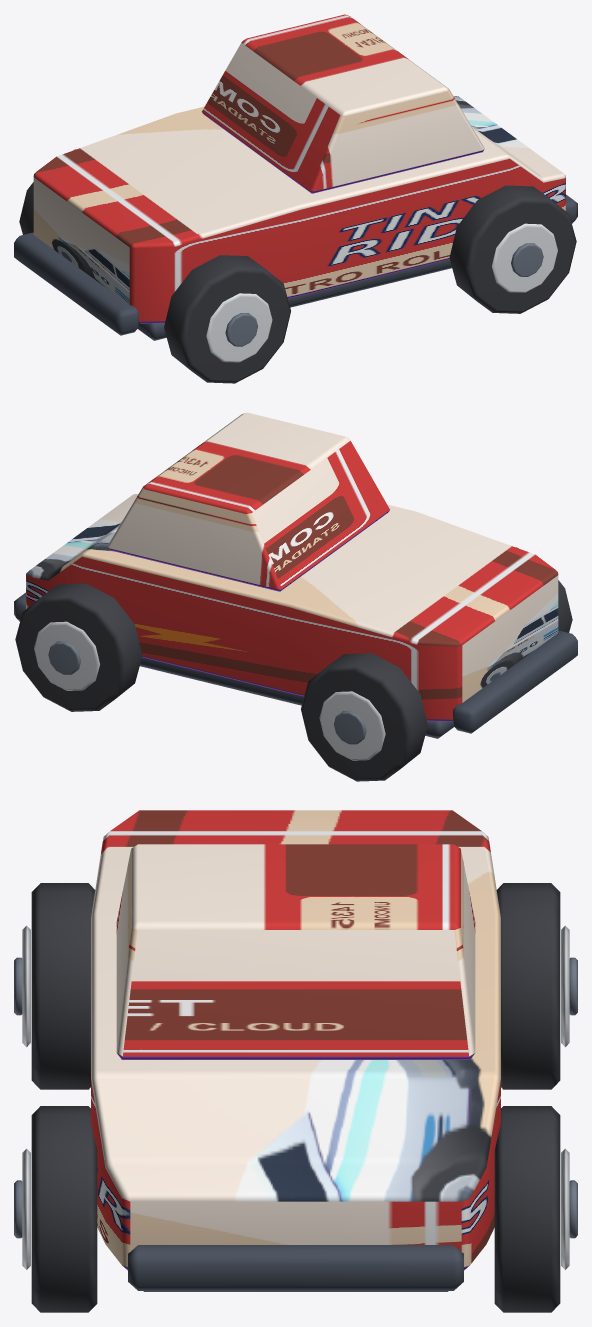
3 renders of one model, top to bottom at view 1: azimuth 30°, elevation 25°; view 2: azimuth 150°, elevation 25°; view 3: azimuth 270°, elevation 25°, orthographic. The views are drawn at different scales.
Visible parts, largest first — view 1: RR-05_connected_shell, RR-05_cabin, Tire.002, Tire, front bumper, Rim, Rim.002, underbody, Hub.002, Hub, Tire.001; view 2: RR-05_connected_shell, RR-05_cabin, Tire.003, Tire.001, front bumper, Rim.001, Rim.003, underbody, Hub.003, Hub.001, Tire; view 3: RR-05_connected_shell, RR-05_cabin, rear bumper, Tire.002, Tire.003, Tire, Tire.001, Rim, Rim.001, Rim.002, Rim.003.
Boxes of the visible parts, bbox=[...] form: RR-05_connected_shell: bbox=[33, 96, 565, 323]; RR-05_cabin: bbox=[202, 14, 484, 193]; Tire.002: bbox=[449, 185, 576, 313]; Tire: bbox=[164, 255, 290, 383]; front bumper: bbox=[14, 232, 139, 335]; Rim: bbox=[206, 293, 272, 362]; Rim.002: bbox=[492, 223, 557, 292]; underbody: bbox=[138, 259, 451, 340]; Hub.002: bbox=[511, 243, 543, 276]; Hub: bbox=[225, 313, 257, 346]; Tire.001: bbox=[19, 149, 75, 234]; RR-05_connected_shell: bbox=[26, 494, 558, 721]; RR-05_cabin: bbox=[107, 412, 389, 591]; Tire.003: bbox=[15, 583, 142, 711]; Tire.001: bbox=[301, 653, 427, 781]; front bumper: bbox=[452, 630, 577, 733]; Rim.001: bbox=[319, 691, 385, 760]; Rim.003: bbox=[34, 621, 99, 690]; underbody: bbox=[140, 657, 453, 738]; Hub.003: bbox=[48, 641, 80, 674]; Hub.001: bbox=[334, 711, 366, 744]; Tire: bbox=[516, 547, 572, 632]; RR-05_connected_shell: bbox=[91, 810, 500, 1270]; RR-05_cabin: bbox=[116, 844, 475, 1059]; rear bumper: bbox=[128, 1245, 463, 1290]; Tire.002: bbox=[31, 1106, 97, 1312]; Tire.003: bbox=[494, 1106, 560, 1312]; Tire: bbox=[31, 883, 95, 1089]; Tire.001: bbox=[496, 883, 560, 1089]; Rim: bbox=[22, 925, 30, 1047]; Rim.001: bbox=[561, 925, 569, 1047]; Rim.002: bbox=[22, 1148, 30, 1269]; Rim.003: bbox=[561, 1148, 569, 1269].
Bounding box in the file's own units: 339 × 151 × 223.
